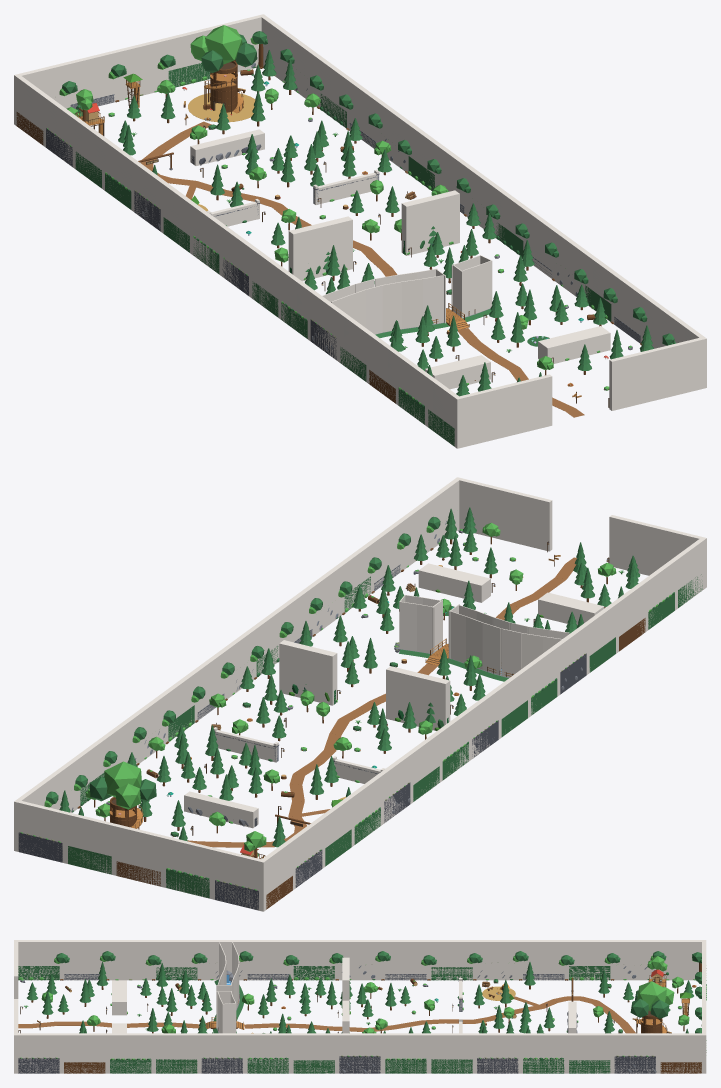
The model's file is CatCafe_Woods_SetF85.glb.
3 views of the same model, one above another, from view 1: azimuth 30°, elevation 25°; view 2: azimuth 150°, elevation 25°; view 3: azimuth 270°, elevation 25° (orthographic). The views are drawn at different scales.
Parts seen in each view (by area): view 1: CatCafe_Woods_SetF85_075_Walls_Barrier, CatCafe_Woods_SetF85_085_Stream_Barrier, CatCafe_Woods_SetF85_079_TreeLine_Barrier, CatCafe_Woods_SetF85, CatCafe_Woods_SetF85_076_FallenTimber_Barrier, CatCafe_Woods_SetF85_157_GreatOak_Canopy, CatCafe_Woods_SetF85_080_StoneWall_Barrier, CatCafe_Woods_SetF85_157_GreatOak, CatCafe_Woods_SetF85_083_BoulderRidge_Barrier, CatCafe_Woods_SetF85_162_Treehouse, CatCafe_Woods_SetF85_002_WallThicket; view 2: CatCafe_Woods_SetF85_075_Walls_Barrier, CatCafe_Woods_SetF85_085_Stream_Barrier, CatCafe_Woods_SetF85_079_TreeLine_Barrier, CatCafe_Woods_SetF85, CatCafe_Woods_SetF85_076_FallenTimber_Barrier, CatCafe_Woods_SetF85_157_GreatOak_Canopy, CatCafe_Woods_SetF85_080_StoneWall_Barrier, CatCafe_Woods_SetF85_083_BoulderRidge_Barrier, CatCafe_Woods_SetF85_000_WallCliff, CatCafe_Woods_SetF85_008_WallCliff, CatCafe_Woods_SetF85_006_WallDrystone, CatCafe_Woods_SetF85_002_WallThicket (+2 smaller); view 3: CatCafe_Woods_SetF85_075_Walls_Barrier, CatCafe_Woods_SetF85, CatCafe_Woods_SetF85_085_Stream_Barrier, CatCafe_Woods_SetF85_157_GreatOak_Canopy, CatCafe_Woods_SetF85_040_WallCliff, CatCafe_Woods_SetF85_052_WallCliff, CatCafe_Woods_SetF85_076_FallenTimber_Barrier, CatCafe_Woods_SetF85_066_WallCliff, CatCafe_Woods_SetF85_058_WallCliff, CatCafe_Woods_SetF85_046_WallCliff, CatCafe_Woods_SetF85_056_WallDrystone, CatCafe_Woods_SetF85_044_WallDrystone (+19 smaller).
Part boxes in pixels (box(x1,y1,x2,y2)): CatCafe_Woods_SetF85_075_Walls_Barrier: box(14, 14, 706, 448); CatCafe_Woods_SetF85_085_Stream_Barrier: box(321, 255, 492, 334); CatCafe_Woods_SetF85_079_TreeLine_Barrier: box(288, 190, 459, 281); CatCafe_Woods_SetF85: box(140, 93, 584, 417); CatCafe_Woods_SetF85_076_FallenTimber_Barrier: box(425, 326, 610, 389); CatCafe_Woods_SetF85_157_GreatOak_Canopy: box(190, 25, 257, 72); CatCafe_Woods_SetF85_080_StoneWall_Barrier: box(207, 169, 379, 226); CatCafe_Woods_SetF85_157_GreatOak: box(203, 60, 243, 115); CatCafe_Woods_SetF85_083_BoulderRidge_Barrier: box(190, 129, 264, 165); CatCafe_Woods_SetF85_162_Treehouse: box(75, 89, 104, 135); CatCafe_Woods_SetF85_002_WallThicket: box(168, 63, 210, 87); CatCafe_Woods_SetF85_075_Walls_Barrier: box(14, 477, 706, 911); CatCafe_Woods_SetF85_085_Stream_Barrier: box(399, 595, 569, 677); CatCafe_Woods_SetF85_079_TreeLine_Barrier: box(279, 640, 450, 730); CatCafe_Woods_SetF85: box(187, 557, 576, 847); CatCafe_Woods_SetF85_076_FallenTimber_Barrier: box(418, 563, 604, 624); CatCafe_Woods_SetF85_157_GreatOak_Canopy: box(89, 761, 156, 810); CatCafe_Woods_SetF85_080_StoneWall_Barrier: box(213, 727, 384, 783); CatCafe_Woods_SetF85_083_BoulderRidge_Barrier: box(184, 791, 258, 828); CatCafe_Woods_SetF85_000_WallCliff: box(18, 832, 62, 862); CatCafe_Woods_SetF85_008_WallCliff: box(215, 880, 258, 910); CatCafe_Woods_SetF85_006_WallDrystone: box(166, 868, 209, 898); CatCafe_Woods_SetF85_002_WallThicket: box(68, 846, 111, 874); CatCafe_Woods_SetF85_075_Walls_Barrier: box(14, 940, 706, 1073); CatCafe_Woods_SetF85: box(18, 986, 635, 1033); CatCafe_Woods_SetF85_085_Stream_Barrier: box(216, 942, 239, 1033); CatCafe_Woods_SetF85_157_GreatOak_Canopy: box(630, 981, 674, 1018); CatCafe_Woods_SetF85_040_WallCliff: box(614, 1055, 656, 1073); CatCafe_Woods_SetF85_052_WallCliff: box(339, 1055, 380, 1073); CatCafe_Woods_SetF85_076_FallenTimber_Barrier: box(112, 980, 126, 1033); CatCafe_Woods_SetF85_066_WallCliff: box(18, 1057, 59, 1073); CatCafe_Woods_SetF85_058_WallCliff: box(201, 1057, 242, 1073); CatCafe_Woods_SetF85_046_WallCliff: box(477, 1057, 518, 1073); CatCafe_Woods_SetF85_056_WallDrystone: box(247, 1057, 288, 1073); CatCafe_Woods_SetF85_044_WallDrystone: box(523, 1057, 564, 1073).
Bounding box in the file's own units: 160 × 51.33 × 490.
1 material, 1 textured.
